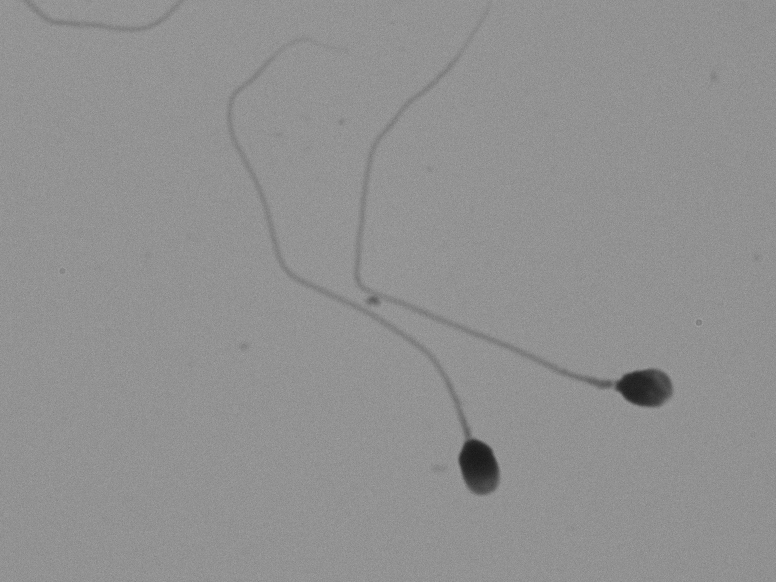Abnormal: (469, 274, 728, 417)
Normal: (239, 165, 511, 541)
